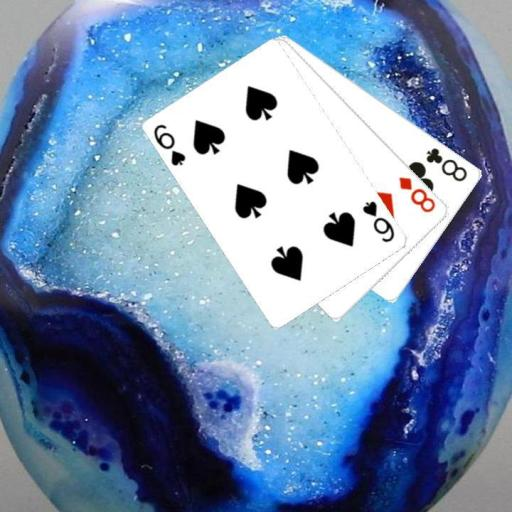6S: (359, 198, 397, 245), (151, 121, 188, 168)
8C: (423, 145, 469, 184)
8D: (395, 174, 438, 214)
